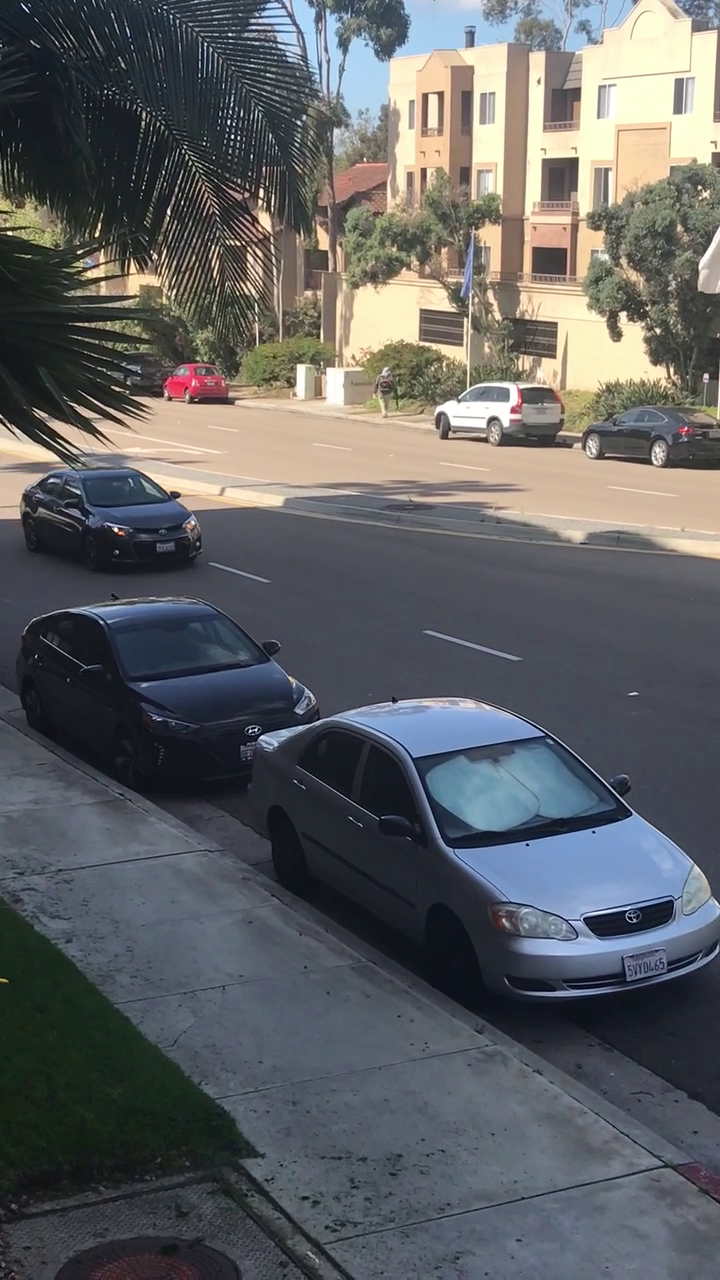car: (232, 697, 707, 1017), (35, 607, 323, 792), (28, 450, 195, 566)
